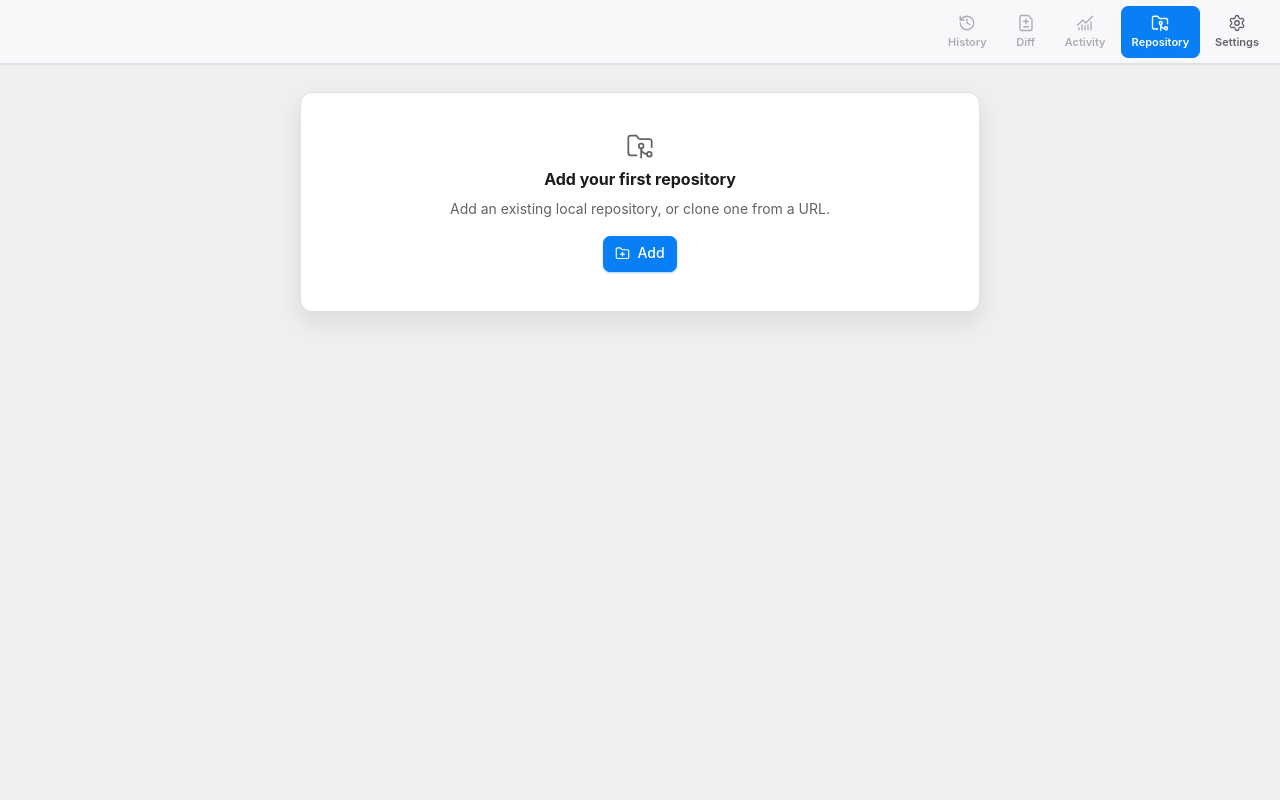
Test: App repository attach › opens a Finder-selected local directory through the shared Add sheet
The width and height of the screenshot is (1280, 800).
Click the button with aria-label "Add Repository": [640, 254] box [603,236,676,272]
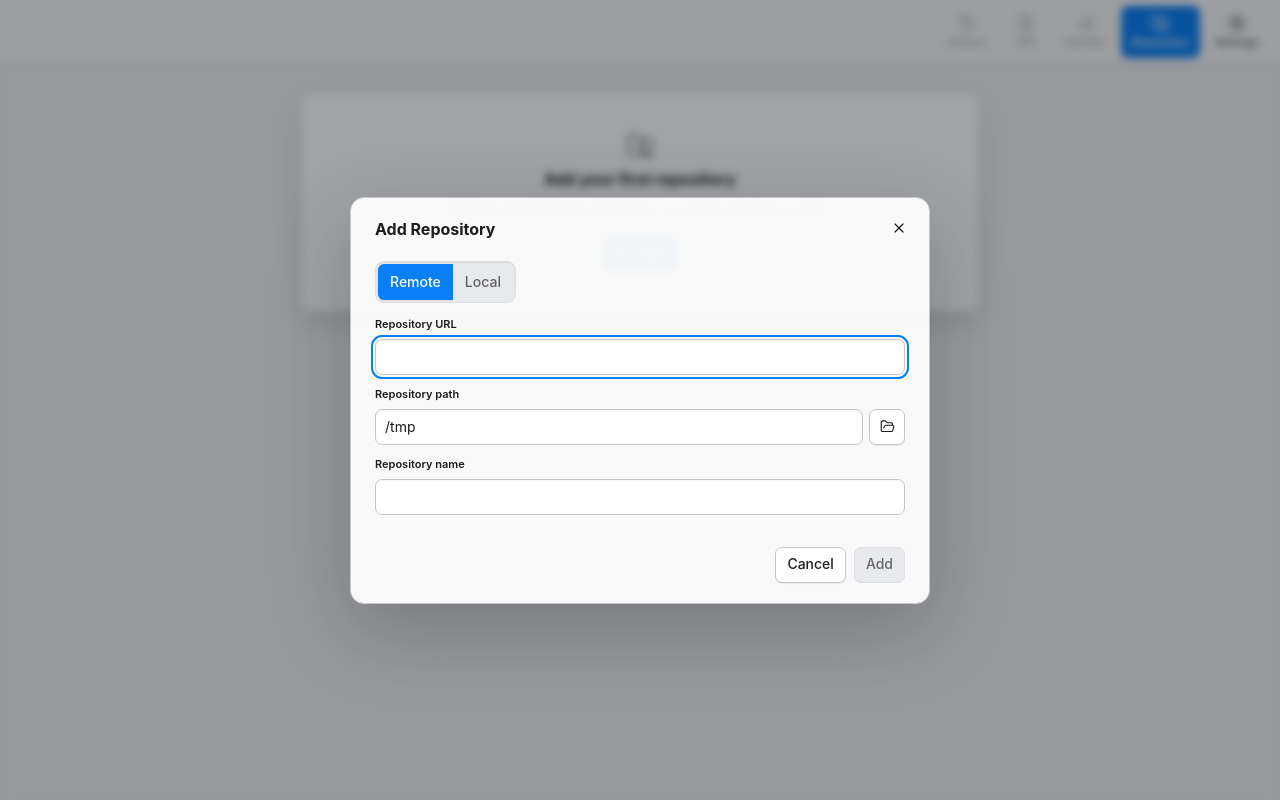
Click the tab "Local": [483, 282] box [453,264,513,300]
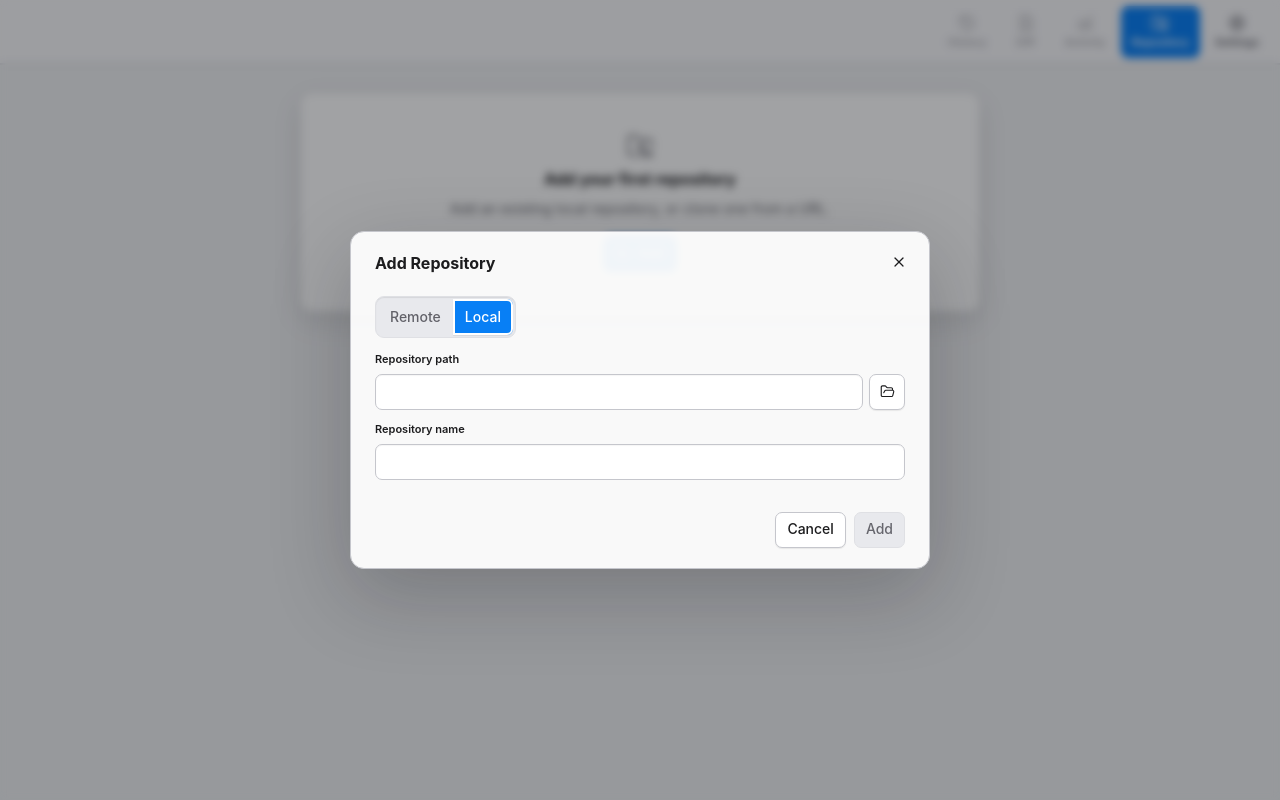
Click the button named "Choose Repository": [887, 392] box [869,374,905,410]
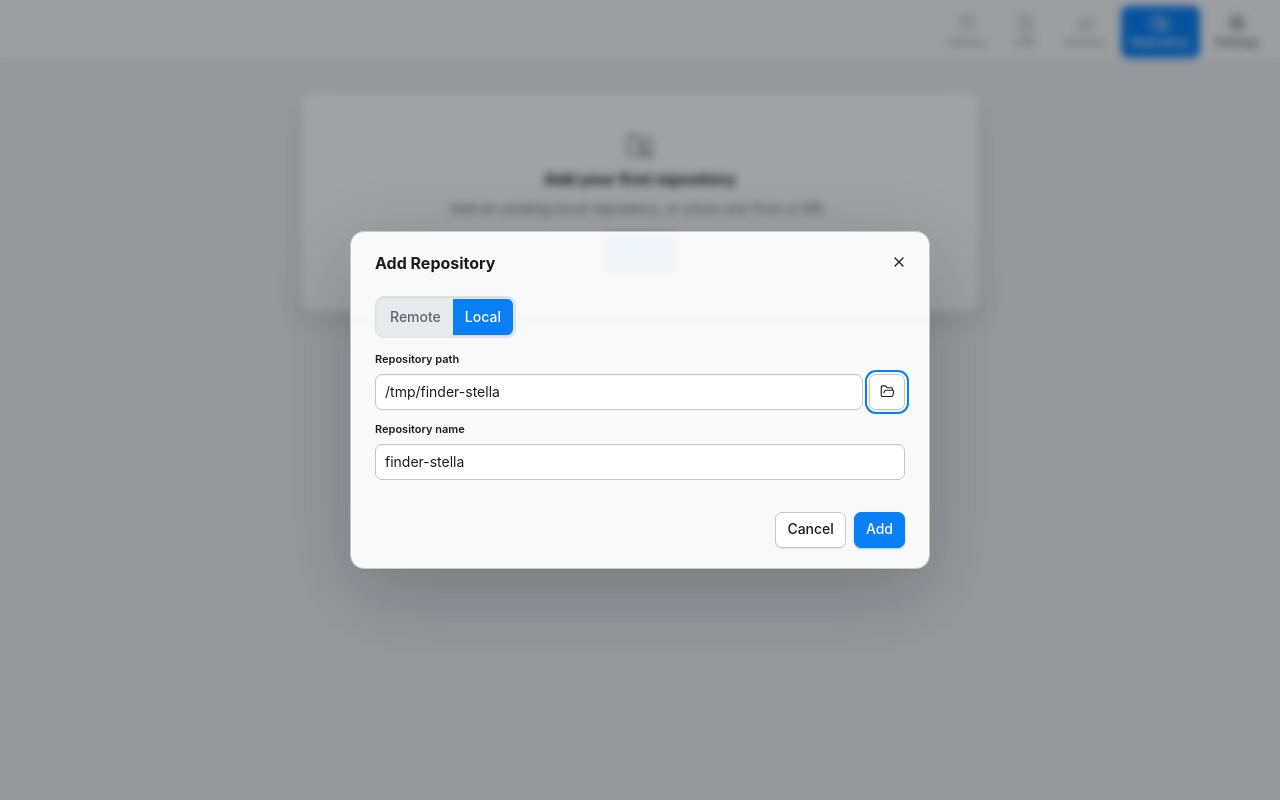
Expected: the field labelled "Repository path" holds "/tmp/finder-stella", [375,374,863,410]
Expected: the field labelled "Repository name" holds "finder-stella"
Replace the text in the field labelled "Repository name" with "Stella Desktop": [640, 462] box [375,444,905,480]
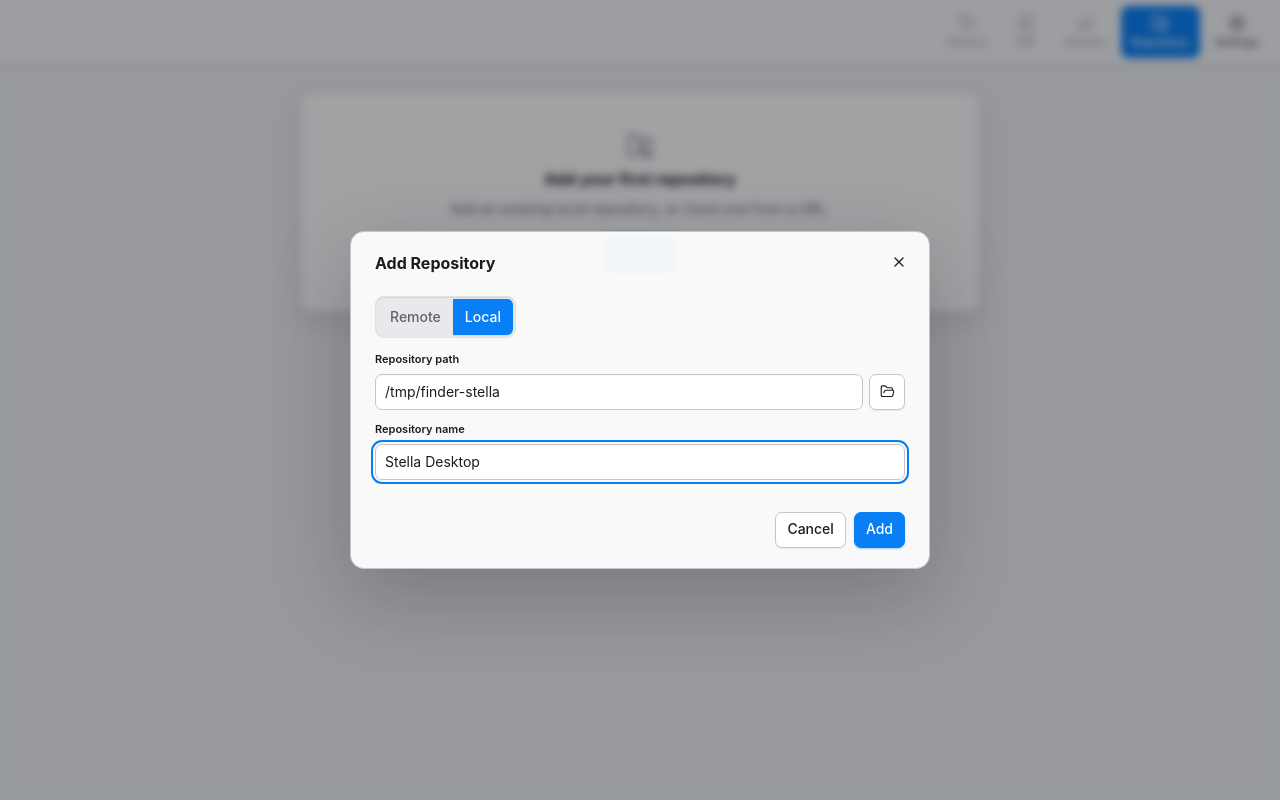
Click the button with aria-label "Add Repository": [879, 530] box [854,512,905,548]
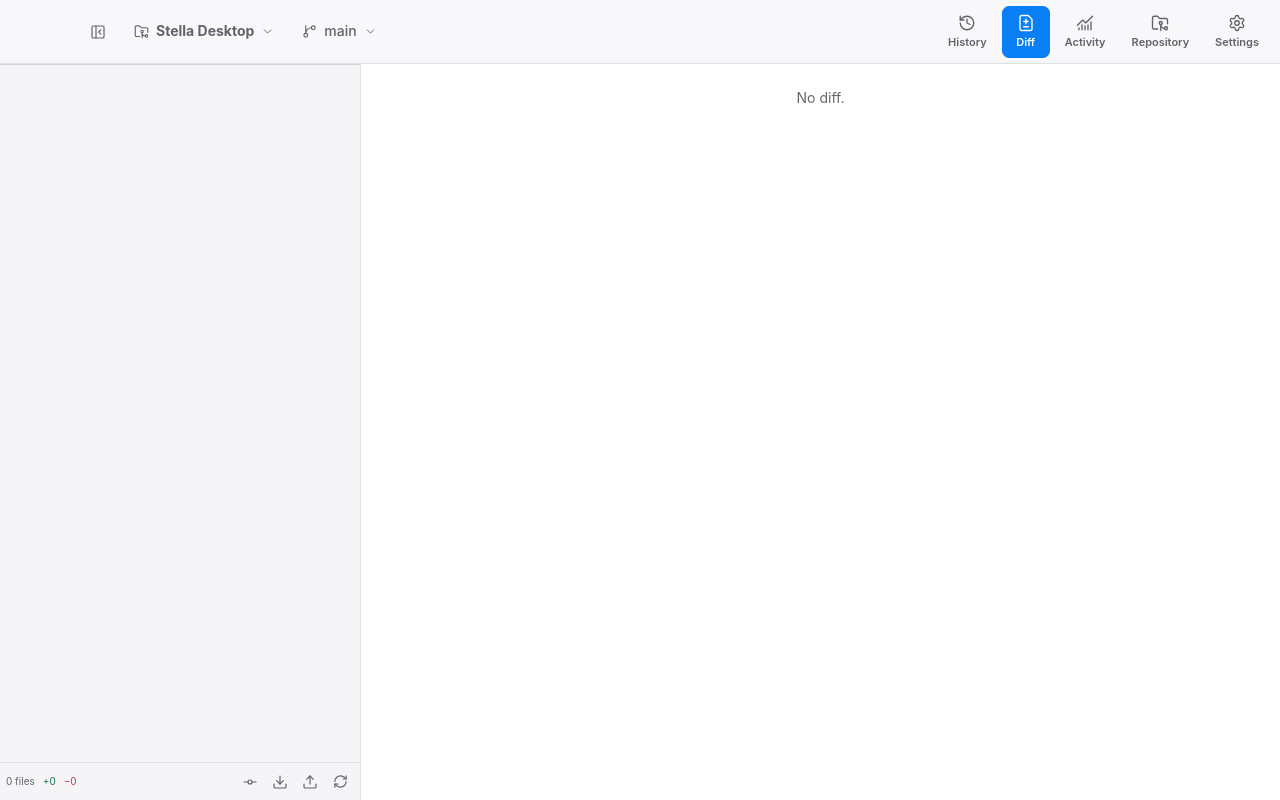
Expected: the button with aria-label "Current repository Stella Desktop" is shown, [124,14,284,48]
